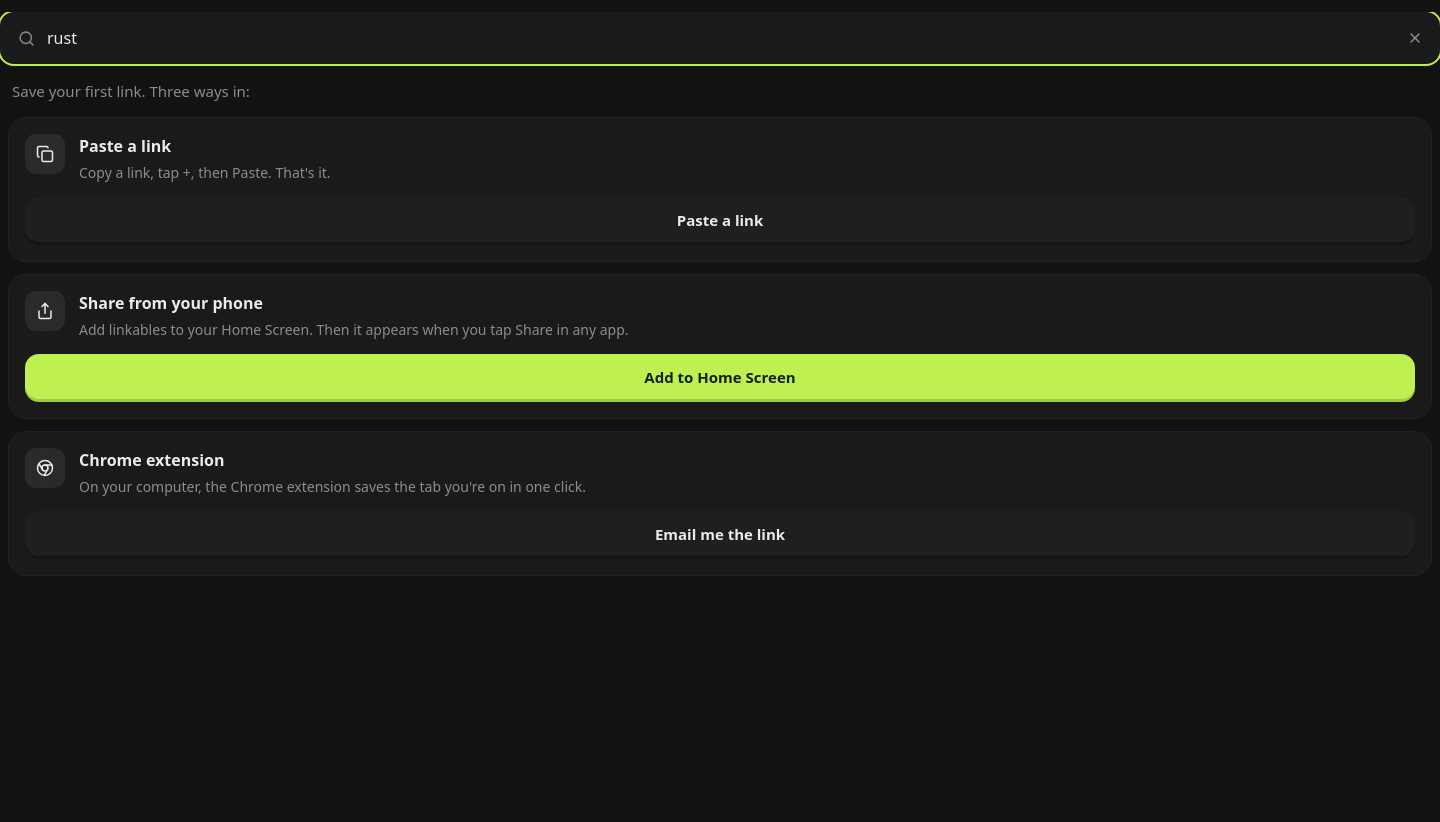
Test case: SaveBar › shows the search from the URL and clears it with the Clear button
This screenshot has width=1440, height=822.
expect the field named "Search or paste a link" holds "rust": met, box 47,12 -> 1386,64
Step 1. Click the button named "Clear search" → (1415,38), box 1398,21 -> 1432,55
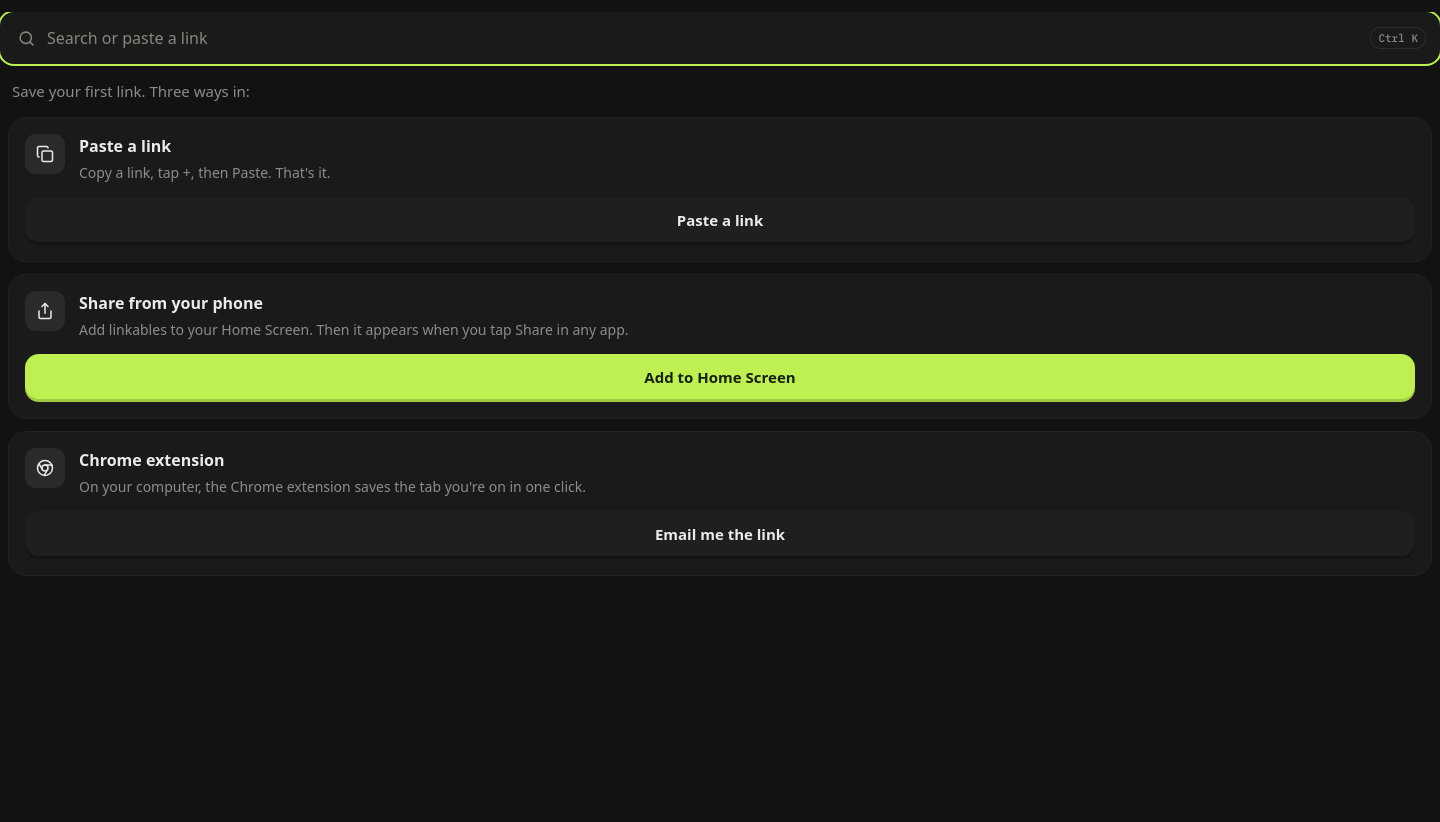
expect the field named "Search or paste a link" is empty: met, box 47,12 -> 1358,64
